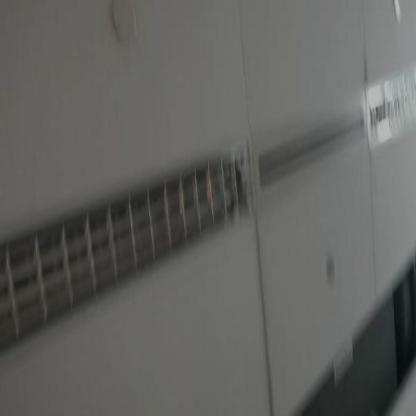light_off: (0, 131, 253, 363)
